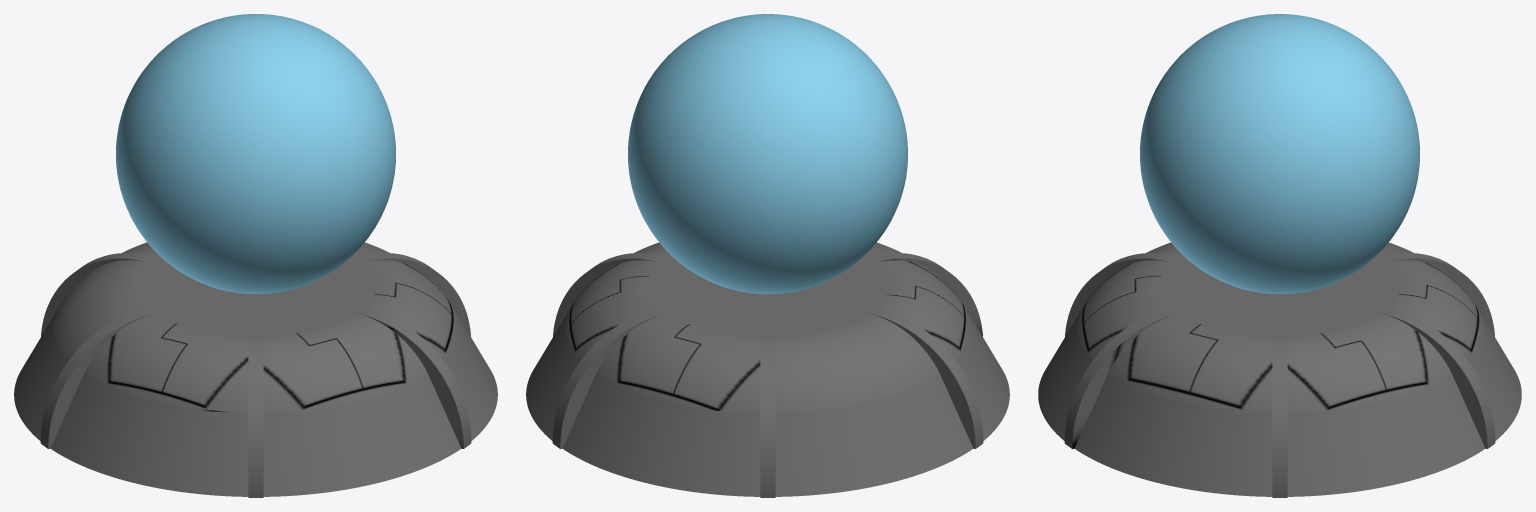
Rendered from holo.obj.
3 views of the same model, side by side, from view 1: azimuth 30°, elevation 25°; view 2: azimuth 150°, elevation 25°; view 3: azimuth 270°, elevation 25° (orthographic).
Visible parts, largest first — view 1: holomap_base.001; view 2: holomap_base.001; view 3: holomap_base.001.
Part boxes in pixels (x1,y1,x2,y2): holomap_base.001: (14,14,497,497); holomap_base.001: (526,14,1009,497); holomap_base.001: (1038,14,1521,497).
Bounding box in the file's own units: 6.97 × 5.79 × 6.9.
